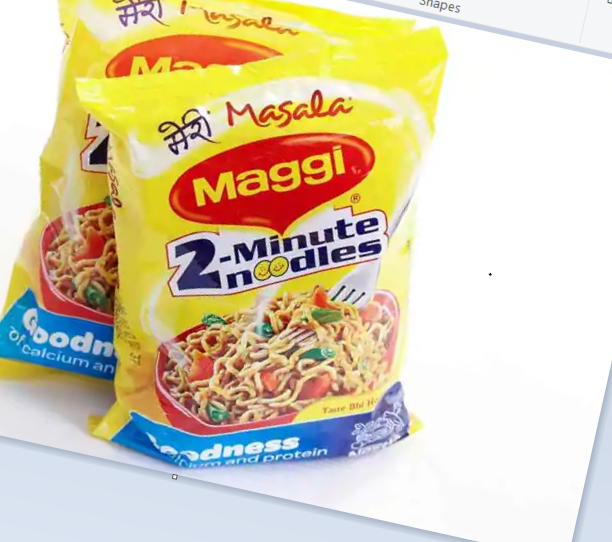maggi: (78, 72, 437, 461)
